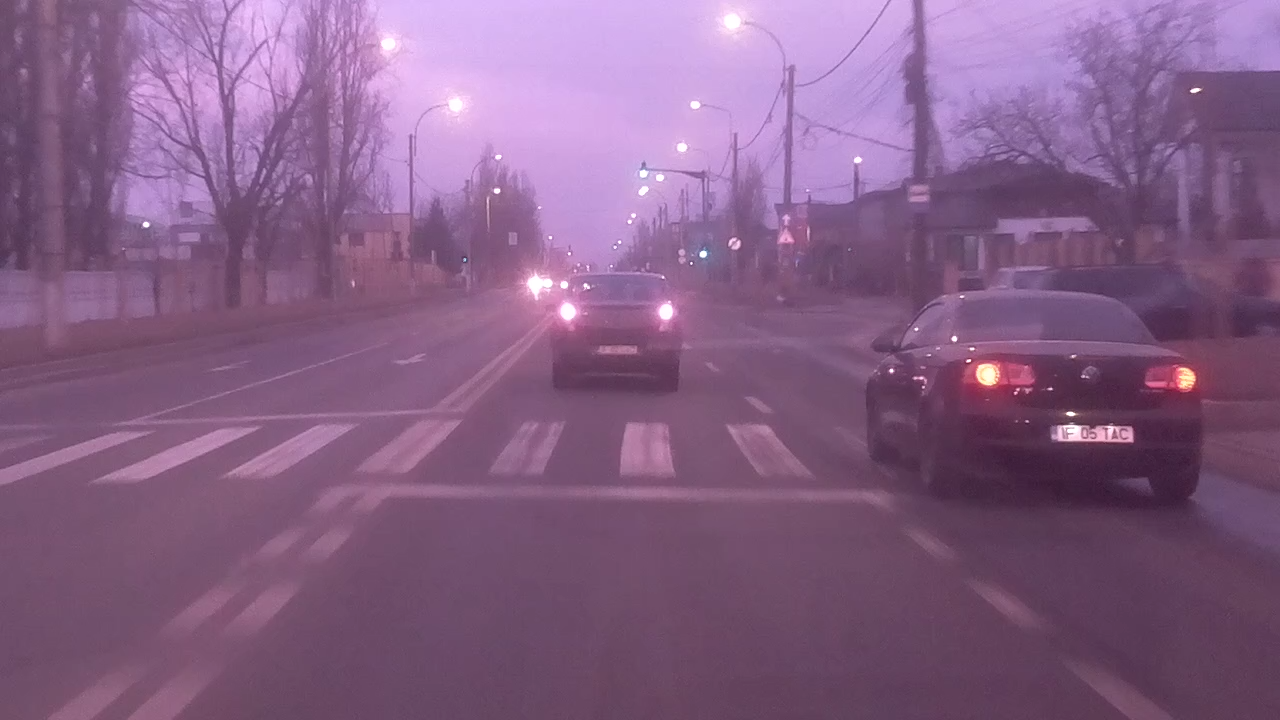license-plate: (1047, 421, 1136, 445)
